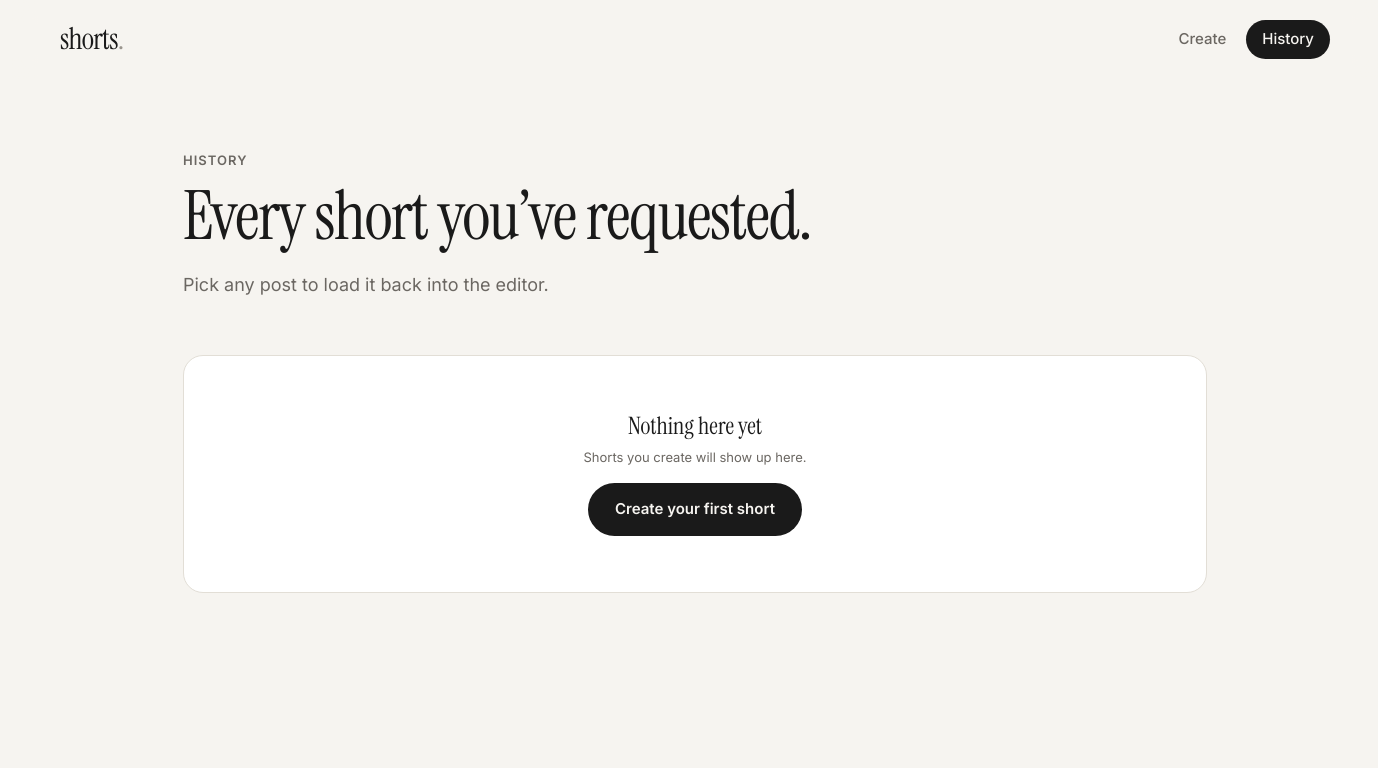
Test: history page › shows an empty state with a link to create
This screenshot has width=1378, height=768.
Click the link "Create your first short": coordinates (695, 510) [588,484,802,536]
(page scrolled)
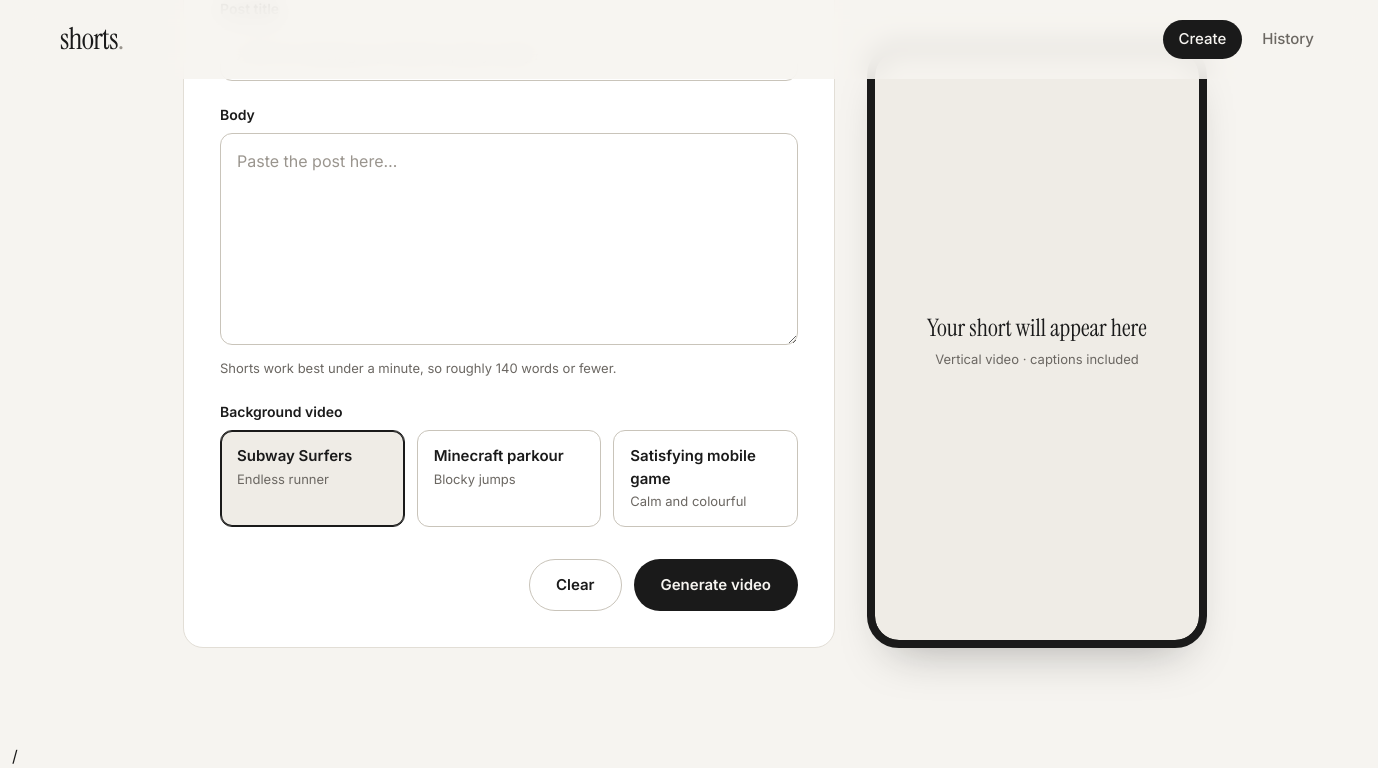
Now the text with test id "location" reads "/", box [12,746,18,766]
